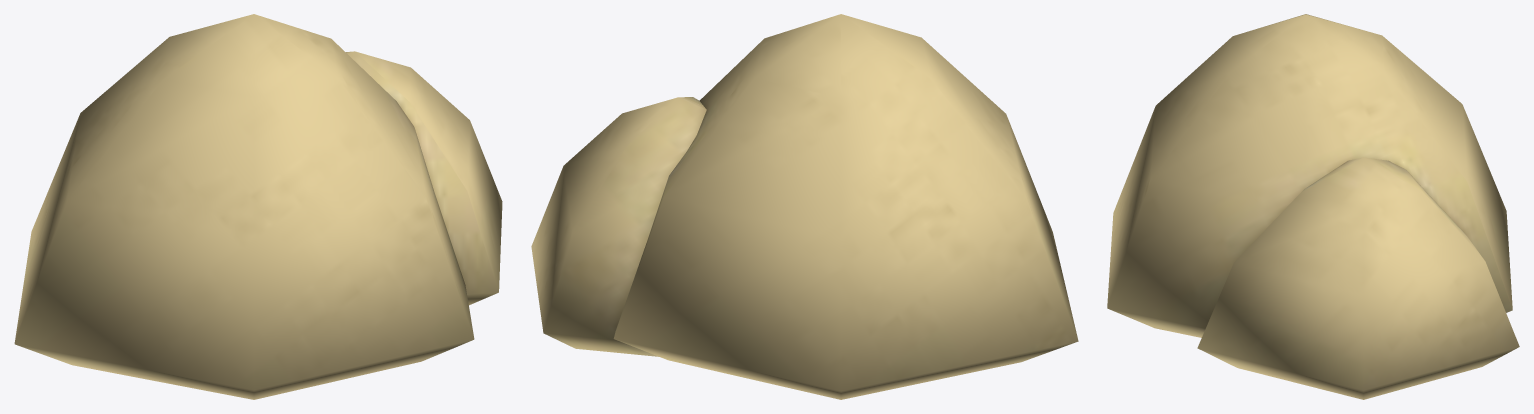
File: areia.glb
The picture shows the model from 3 angles, left to right: view 1: azimuth 30°, elevation 25°; view 2: azimuth 150°, elevation 25°; view 3: azimuth 270°, elevation 25°; orthographic projection. The views are drawn at different scales.
Visible parts, largest first — view 1: areia_corpo; view 2: areia_corpo; view 3: areia_corpo.
Part boxes in pixels (<box>): areia_corpo: <box>14,14,502,399</box>; areia_corpo: <box>531,14,1078,399</box>; areia_corpo: <box>1107,14,1519,399</box>.
Bounding box in the file's own units: 0.23 × 0.13 × 0.1753.
1 material, 1 textured.
